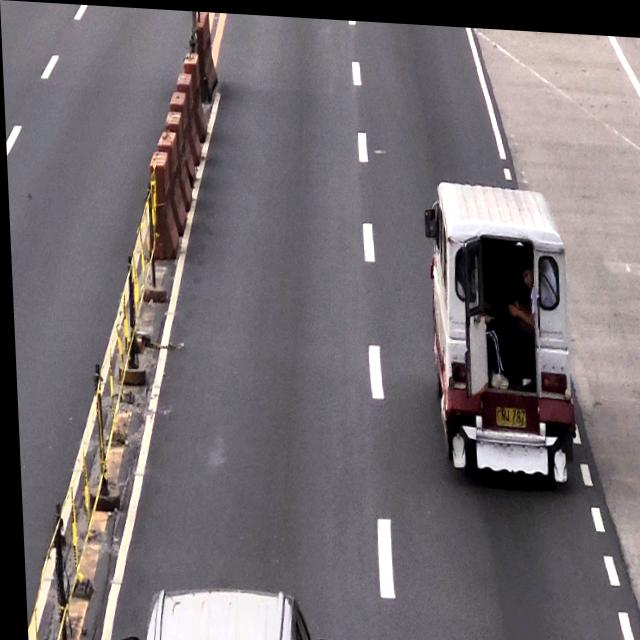Car: (127, 587, 313, 640)
Jeep: (424, 178, 578, 477)
License-Plate: (491, 397, 523, 424)
